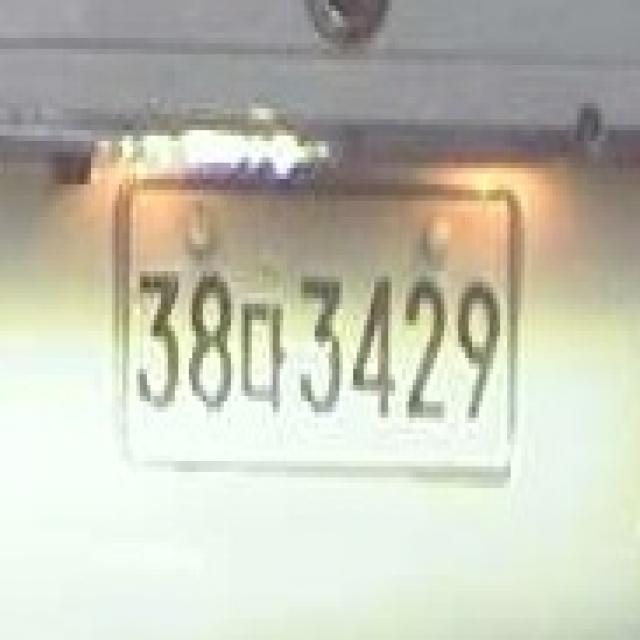2: (402, 277, 451, 423)
3: (133, 266, 182, 412), (297, 271, 343, 412)
4: (350, 271, 395, 412)
8: (189, 271, 238, 412)
9: (455, 282, 500, 418)
da: (238, 293, 287, 418)
license_plate: (122, 179, 518, 472)
